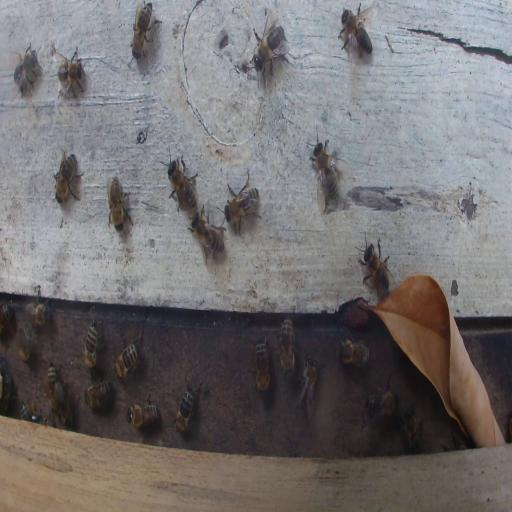bee: (249, 14, 290, 88), (309, 122, 339, 216), (224, 170, 260, 236), (188, 206, 226, 265), (165, 148, 198, 213), (357, 235, 392, 295), (11, 41, 44, 96), (338, 5, 373, 56), (52, 150, 83, 205), (55, 45, 87, 98), (364, 375, 397, 423), (297, 354, 320, 420), (131, 2, 157, 60), (106, 176, 132, 232), (114, 330, 142, 380), (21, 286, 50, 329), (174, 386, 199, 432), (126, 395, 159, 429), (337, 335, 370, 367), (47, 364, 67, 414), (279, 316, 295, 376), (83, 378, 113, 410), (402, 407, 422, 453), (254, 338, 270, 393), (84, 318, 100, 371), (16, 326, 34, 364), (20, 394, 38, 424), (0, 301, 16, 334)
